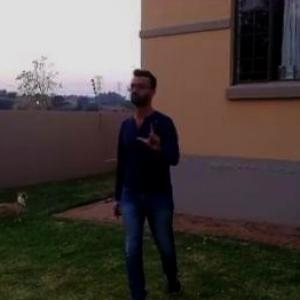land_hand: (135, 115, 165, 153)
